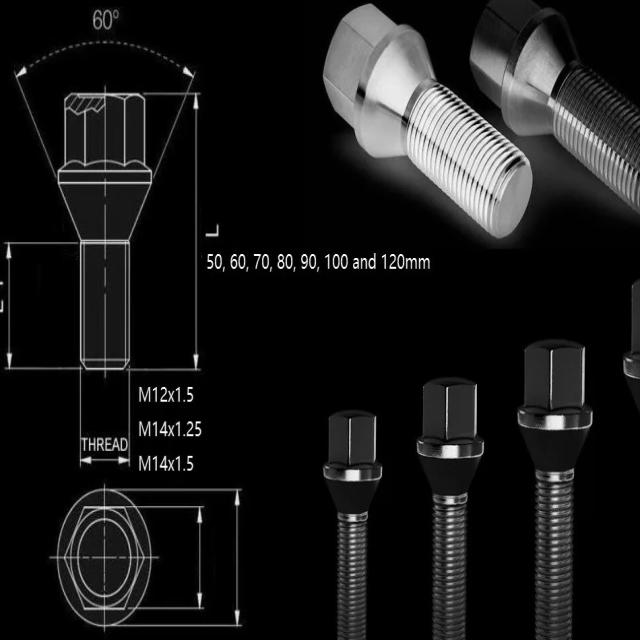marking_line: (190, 93, 203, 370), (3, 245, 16, 368), (232, 492, 242, 625), (196, 508, 205, 608), (81, 453, 129, 469)
numeric: (323, 249, 349, 270), (381, 250, 404, 273), (298, 253, 317, 274), (229, 254, 248, 274), (276, 252, 294, 273), (252, 252, 270, 272), (186, 417, 201, 439), (206, 253, 223, 271), (185, 381, 195, 405), (184, 455, 197, 472), (151, 453, 160, 476), (175, 455, 183, 475), (175, 386, 183, 404), (152, 419, 159, 438), (153, 385, 159, 407), (175, 422, 181, 437)
